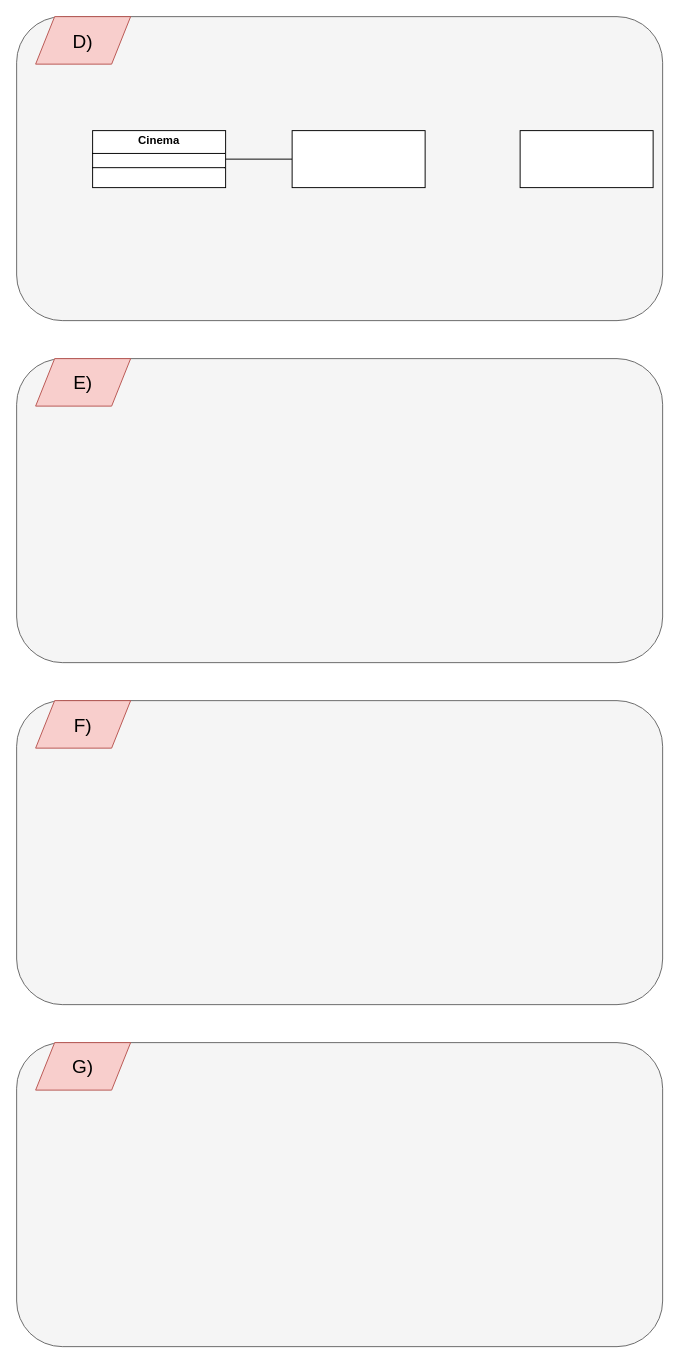
This 679x1363 diagram has some shape labels left out. The shapes that lost their labels are listed below. From the top down, each one's centre as x and y in pixels, then its label:
At point 358,159: "Salle".
At point 586,159: "Film".
